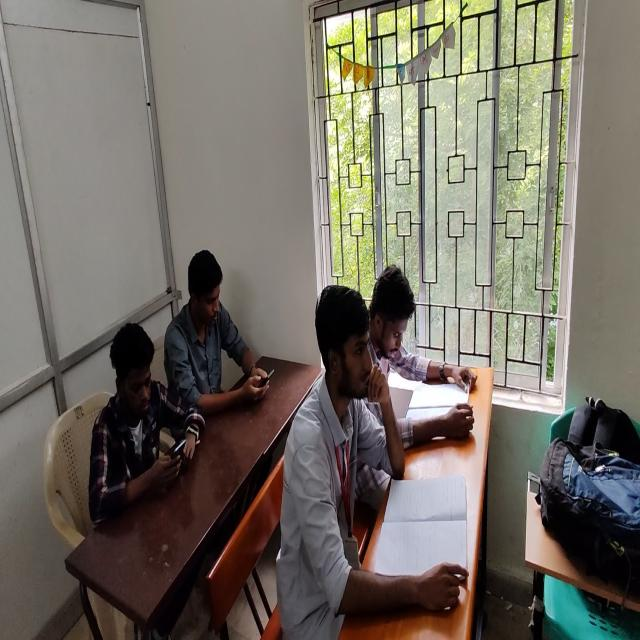reading: (291, 287, 433, 640), (355, 267, 475, 502)
using_mobile: (88, 320, 202, 526), (162, 249, 270, 433)
